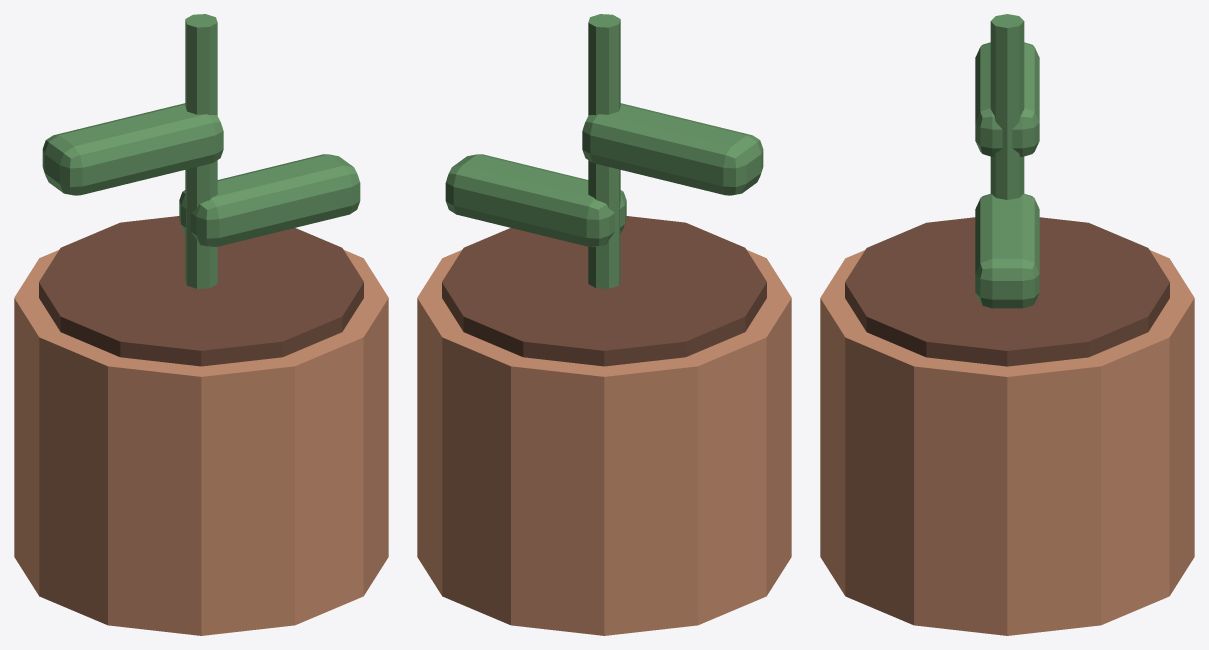
File: prop_potCabai_1.fbx
3 renders of one model, left to right at view 1: azimuth 30°, elevation 25°; view 2: azimuth 150°, elevation 25°; view 3: azimuth 270°, elevation 25°, orthographic.
Visible parts, largest first — view 1: prop_potCabai_1; view 2: prop_potCabai_1; view 3: prop_potCabai_1.
Part boxes in pixels (left/top/right/bottom): prop_potCabai_1: left=14, top=14, right=388, bottom=635; prop_potCabai_1: left=417, top=14, right=791, bottom=635; prop_potCabai_1: left=820, top=14, right=1194, bottom=635.
Size of the model in its own units: 38 by 60 by 38.
1 material, 1 textured.
